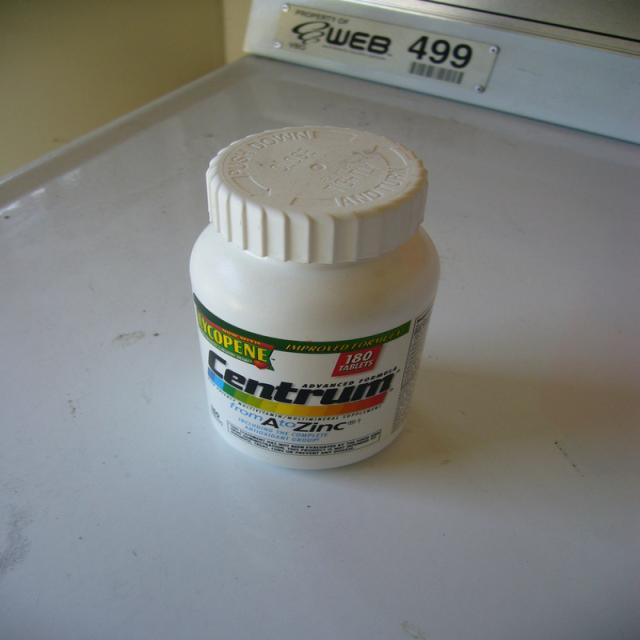container -lemon: (190, 127, 439, 468)
